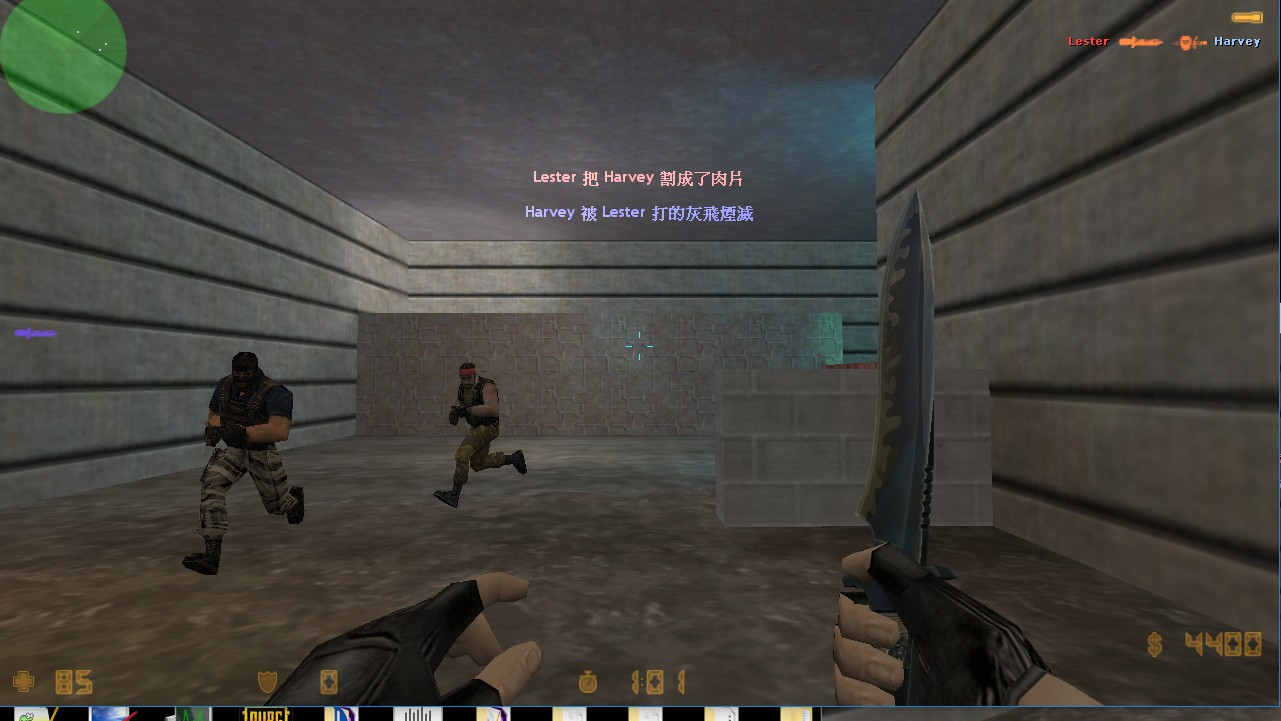person: (181, 343, 319, 580), (432, 358, 530, 511)
